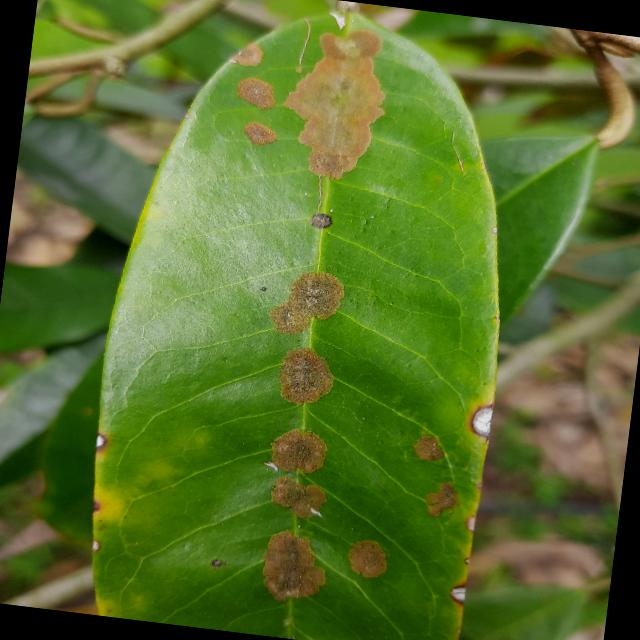Algal Leaf Spot: (62, 0, 547, 639)
